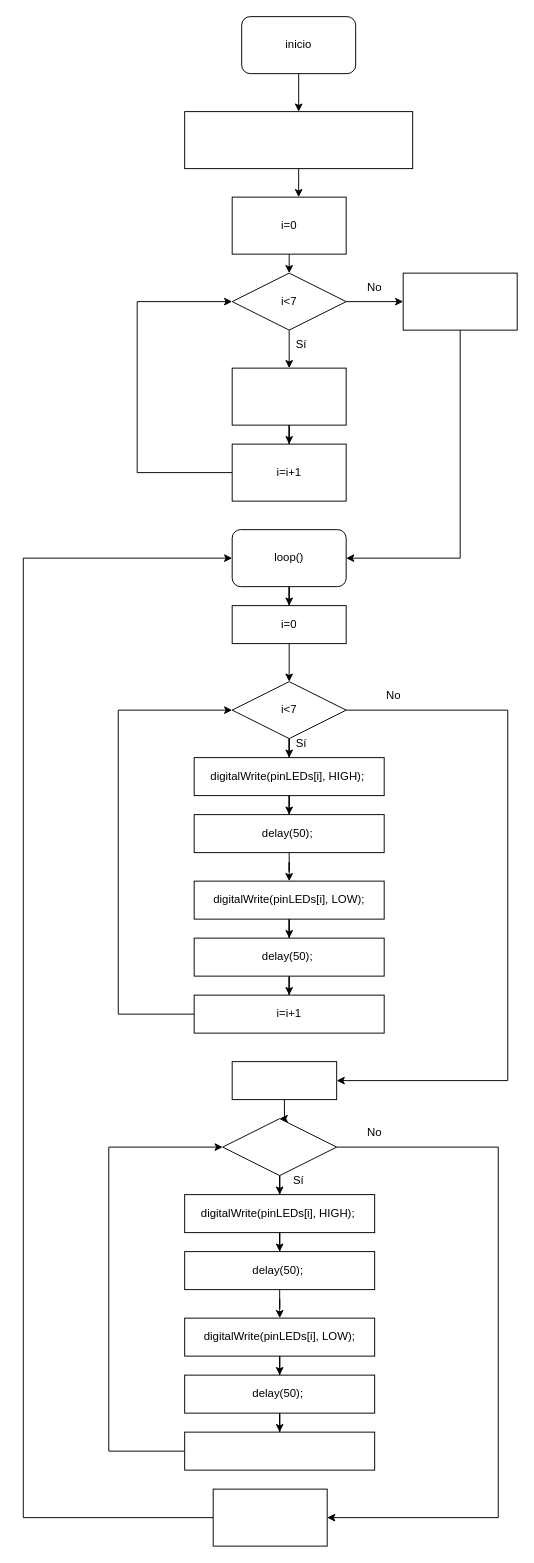
This 534x1563 diagram has some shape labels left out. Here are the shapes that lost their labels. From the top down, the centre of each, then its label:
pixel 298 140: Declarar pines: int pinLEDs[7]=[5,6,7,8,9,10,11]
pixel 459 301: Fin de setup()
pixel 288 396: pinMode(pinLEDs[i], OUTPUT)
pixel 284 1080: i=6
pixel 279 1147: i>=0
pixel 279 1450: i=i-1
pixel 269 1517: Volver al inicio del loop()
